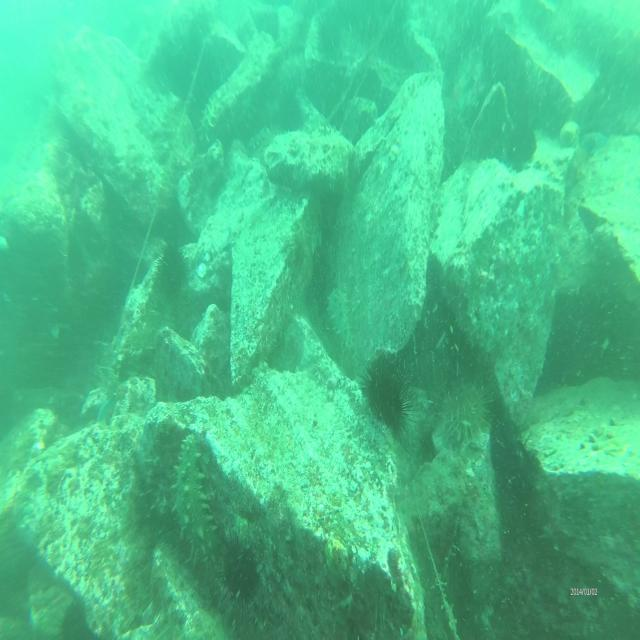echinus: (357, 355, 419, 447), (487, 414, 537, 512), (440, 369, 492, 451), (220, 532, 259, 608), (152, 246, 190, 305), (501, 120, 542, 170), (271, 51, 309, 102), (57, 598, 99, 640)
holothurian: (170, 435, 217, 576), (323, 284, 353, 360), (198, 97, 215, 146), (246, 128, 273, 150)
starfish: (95, 395, 116, 428)
